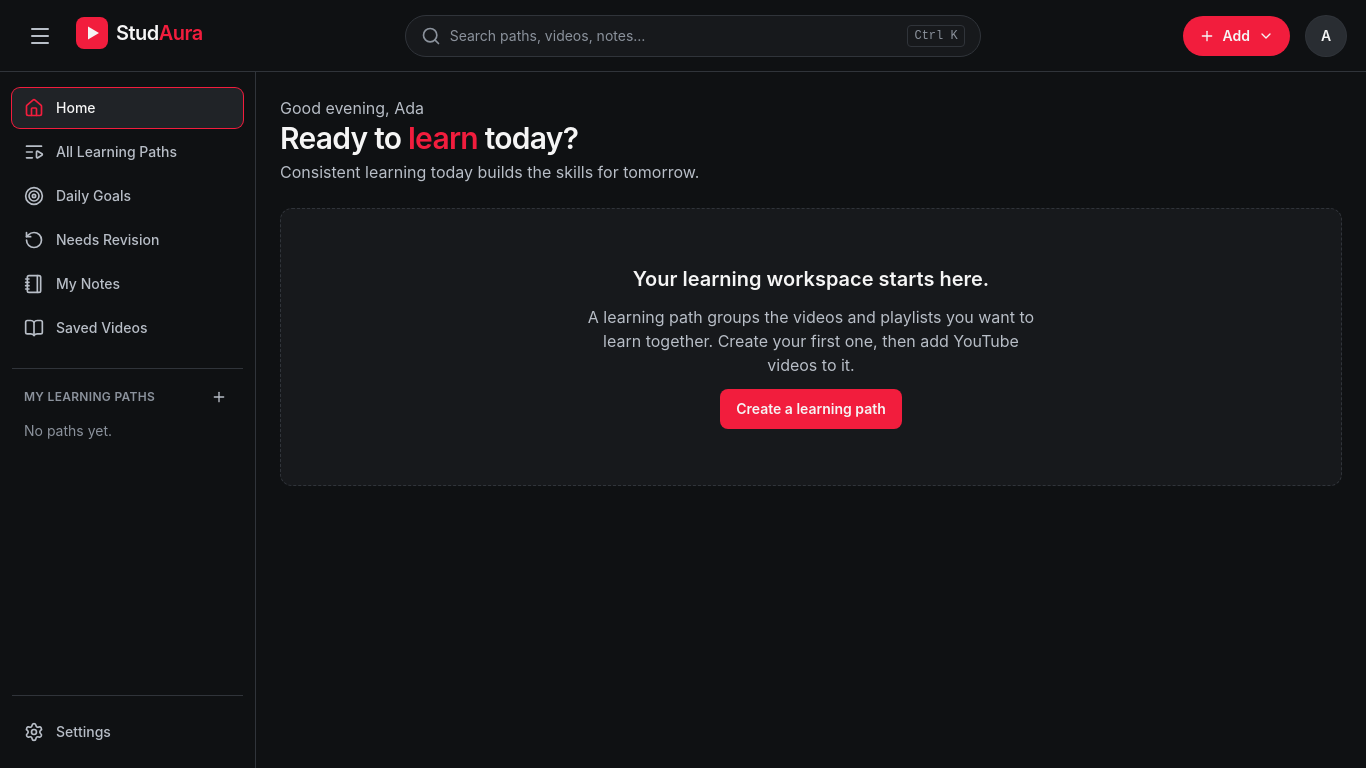
Test: Create learning path dialog › keeps the dialog and the typed text when the server rejects the request
The image size is (1366, 768).
Click the button "Add" at [1236, 36], box [1182, 16, 1290, 56]
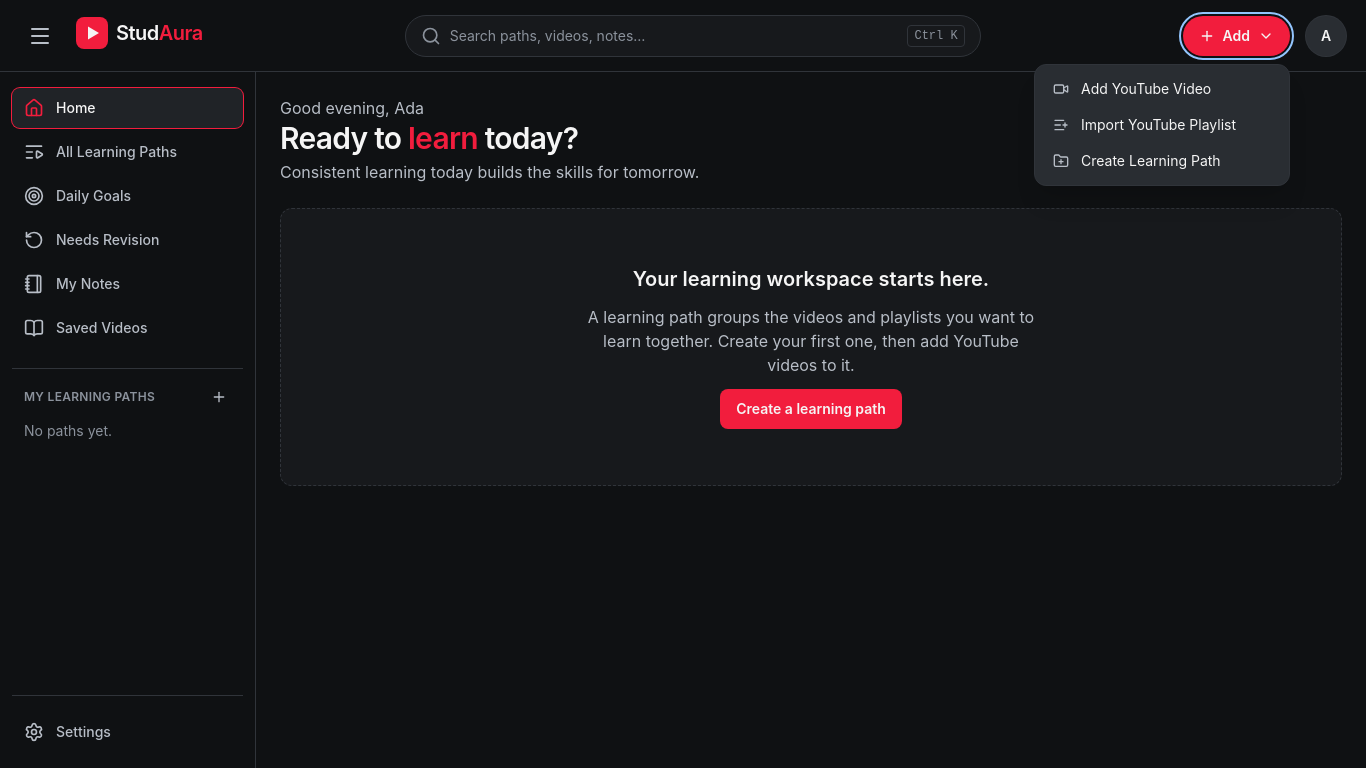
Click the menu item "Create Learning Path" at [1162, 160], box [1041, 142, 1283, 178]
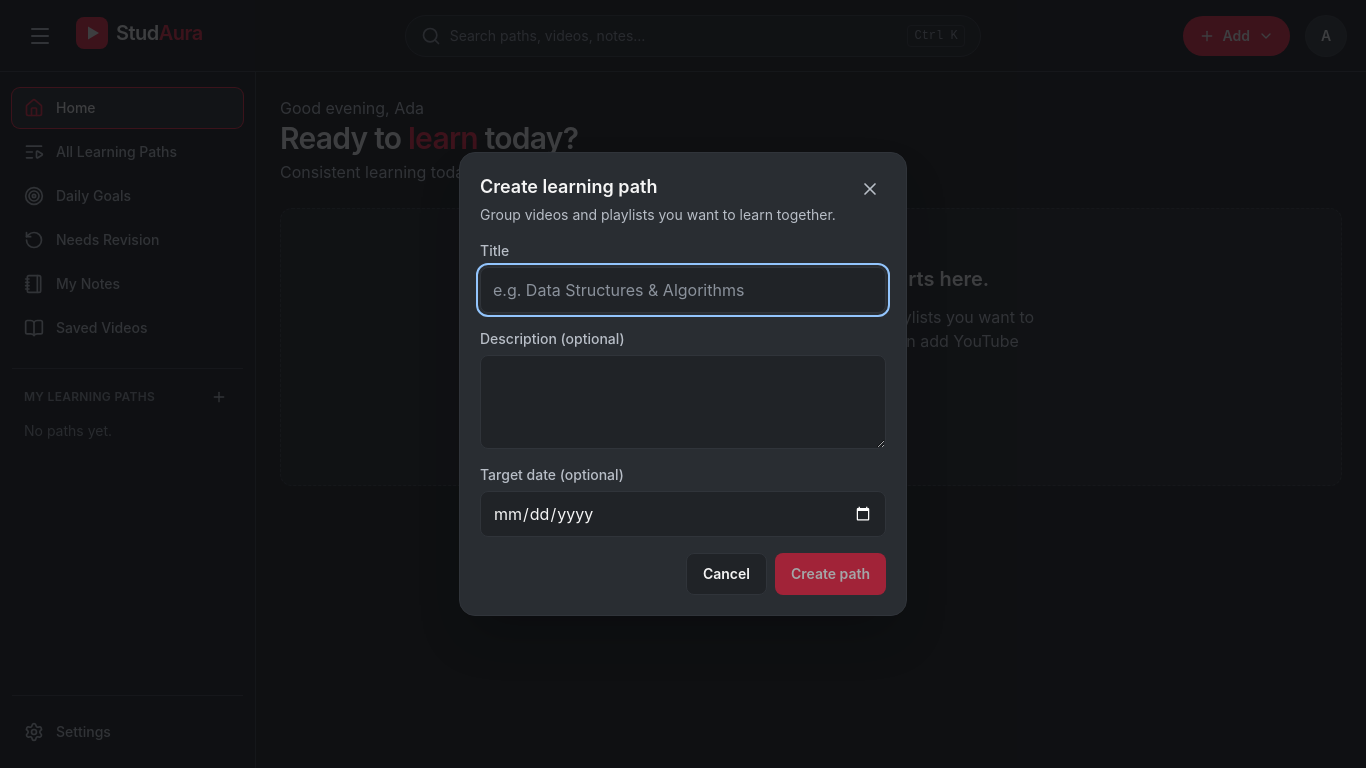
Type "My path" into the field labelled "Title" at [683, 290], box [480, 267, 886, 313]
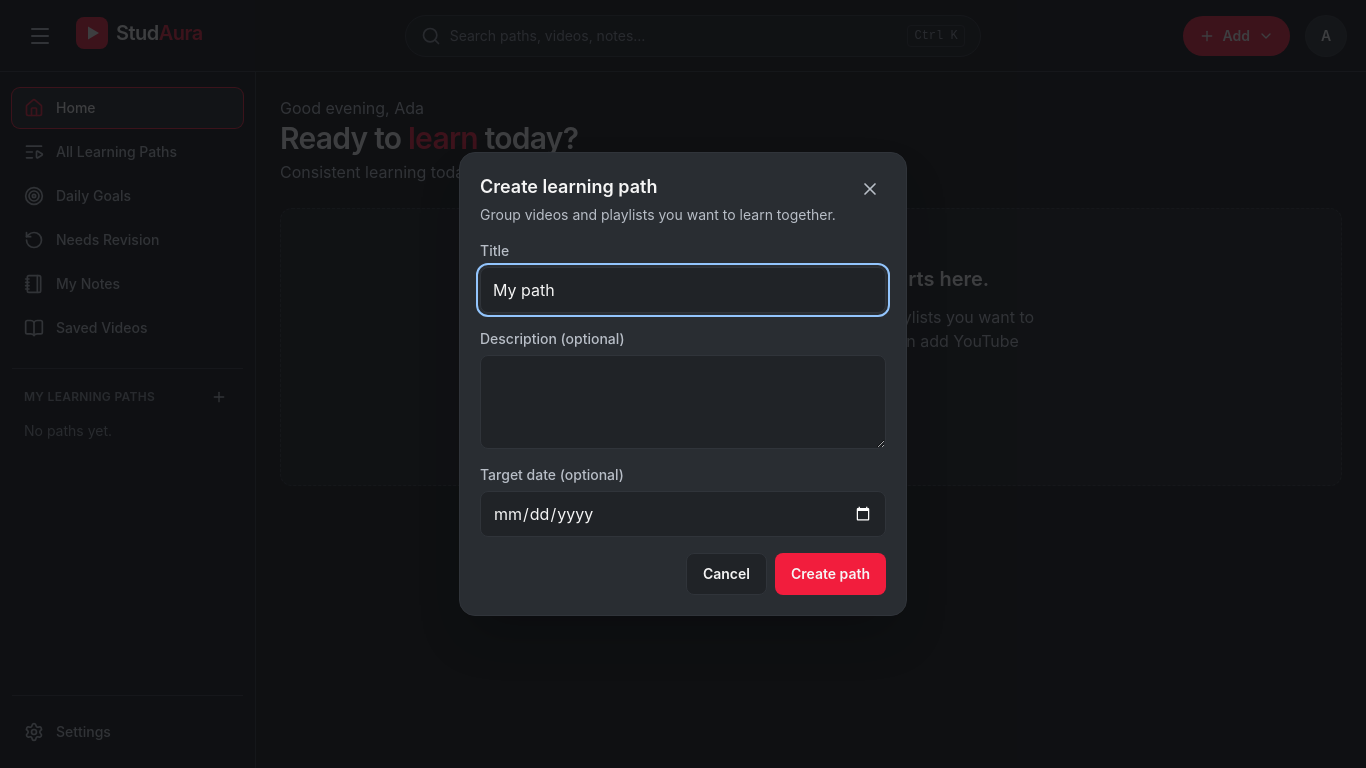
Click the button "Create path" at [830, 574], box [775, 553, 886, 595]
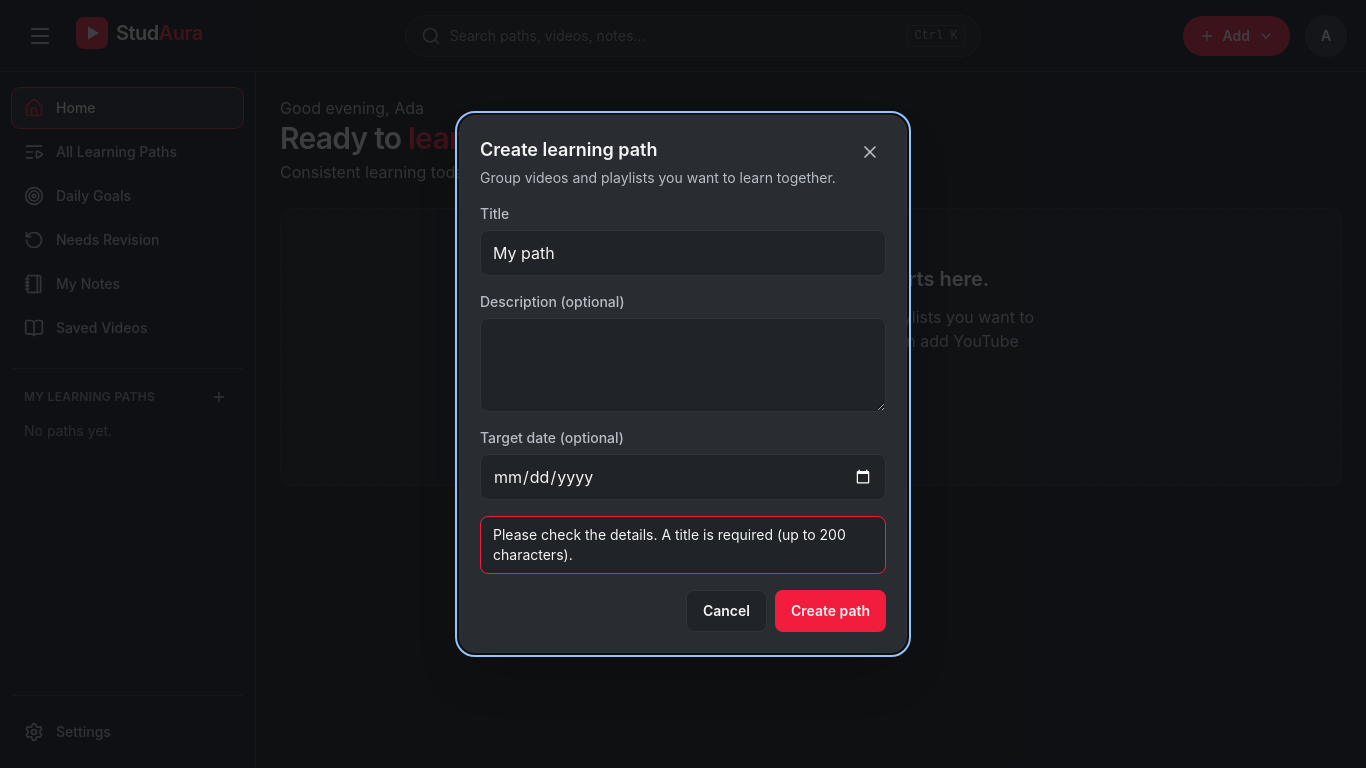
Expected: the message shows "Please check the details", [493, 526, 846, 563]
